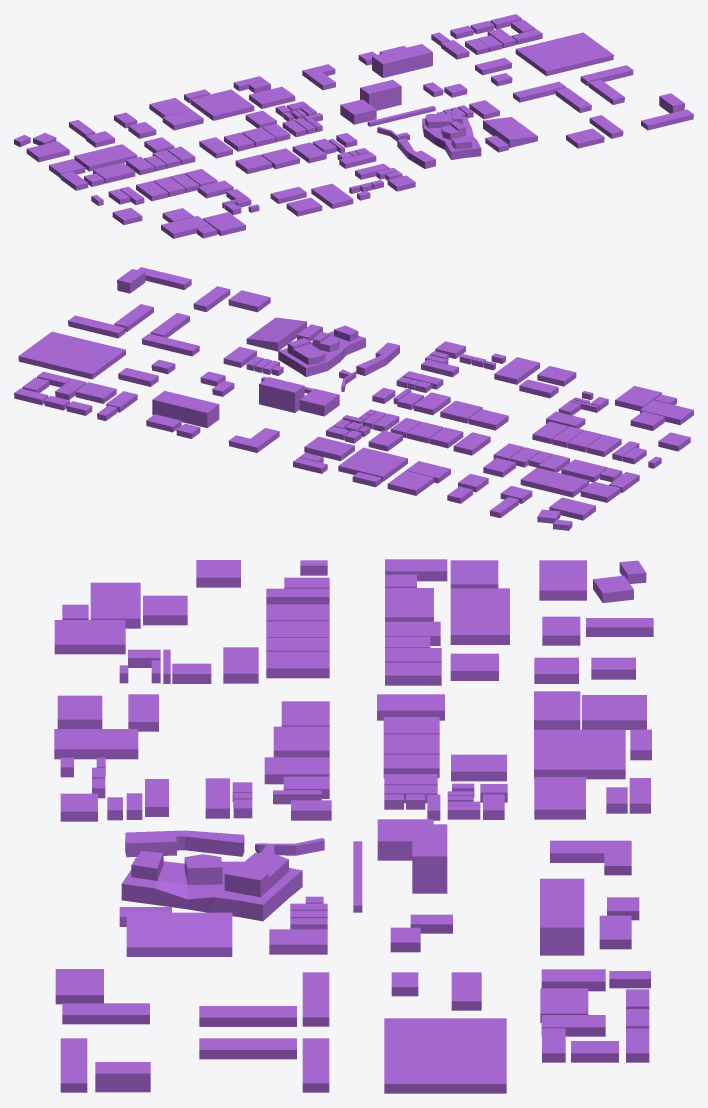
The model's file is buildings.fbx.
3 views of the same model, one above another, from view 1: azimuth 30°, elevation 25°; view 2: azimuth 150°, elevation 25°; view 3: azimuth 270°, elevation 25° (orthographic). The views are drawn at different scales.
Parts seen in each view (by area): view 1: Buildings; view 2: Buildings; view 3: Buildings.
Part boxes in pixels (x1,y1,x2,y2): Buildings: [14, 14, 693, 238]; Buildings: [14, 267, 693, 530]; Buildings: [54, 559, 653, 1093].
Size of the model in its own units: 91056 by 3025 by 43954.
